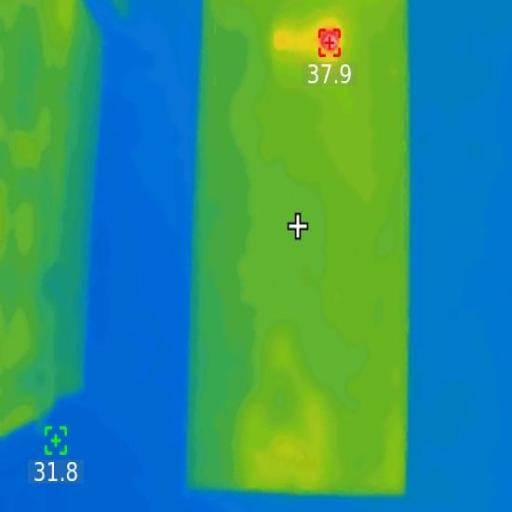hotspot: (322, 29, 340, 54)
